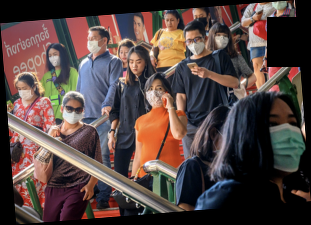with_mask: (268, 112, 305, 174), (61, 104, 86, 126), (144, 84, 166, 108), (185, 35, 206, 56), (86, 35, 103, 56), (16, 85, 35, 103), (213, 33, 230, 50), (192, 12, 210, 27), (47, 50, 62, 68), (271, 2, 288, 11)
without_mask: (127, 57, 146, 75), (118, 49, 131, 64), (165, 16, 177, 30)
